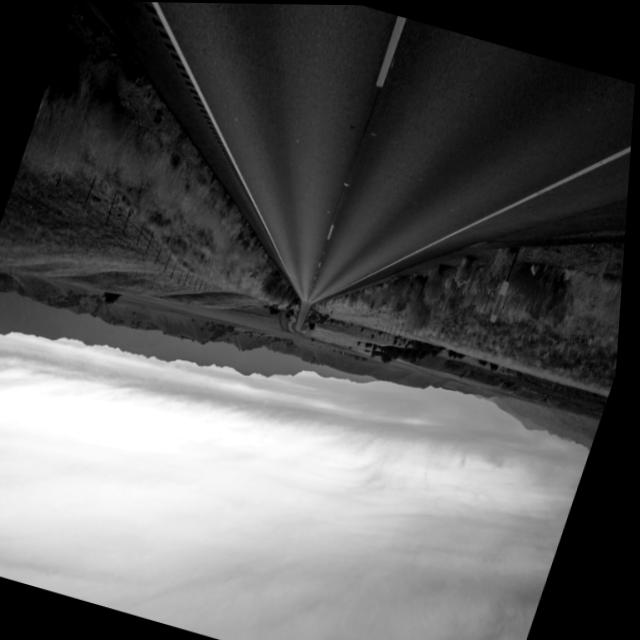cleat: (27, 2, 636, 640)
